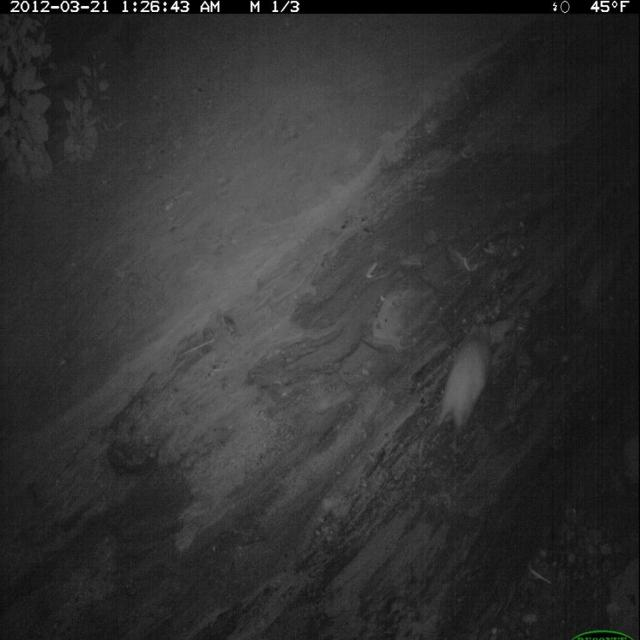opossum: (415, 317, 499, 472)
